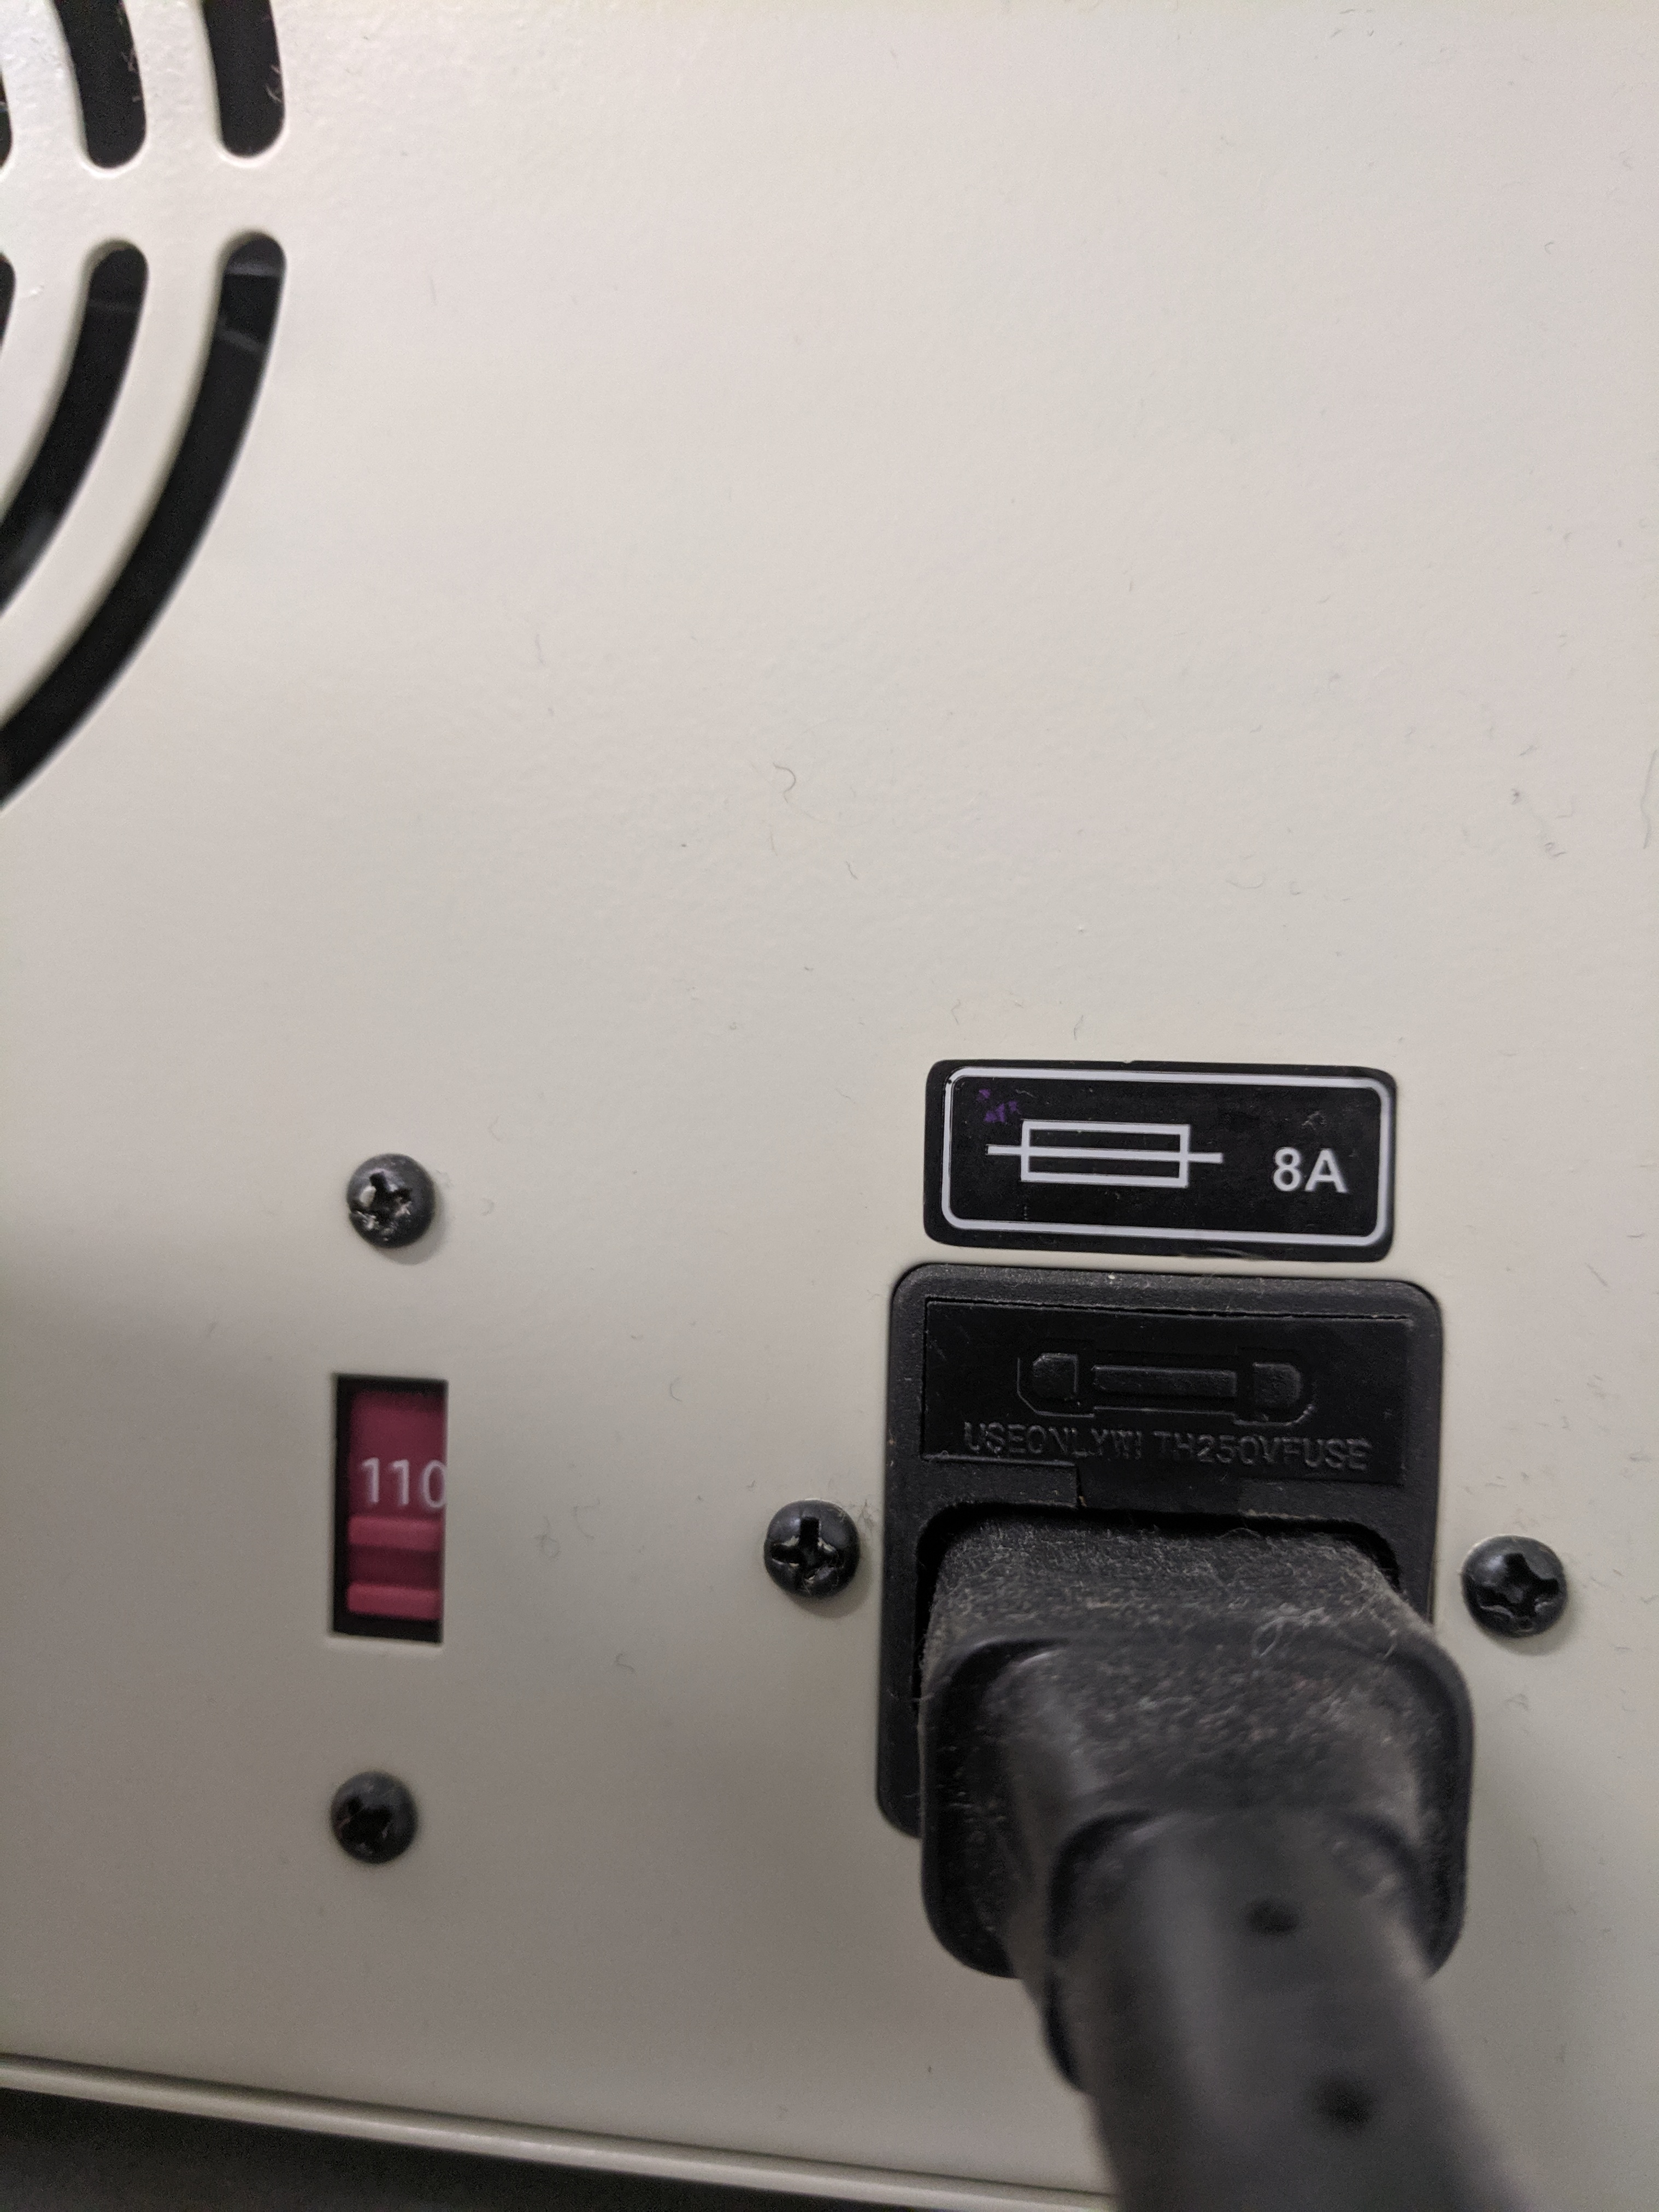cross_recessed_screw: (1452, 1529, 1577, 1648), (751, 1491, 863, 1599), (335, 1153, 437, 1252), (326, 1771, 420, 1864)
